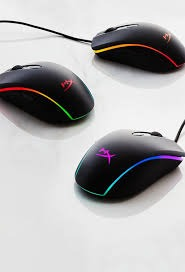mouse: (71, 127, 183, 201), (0, 59, 94, 128), (89, 17, 185, 79)
